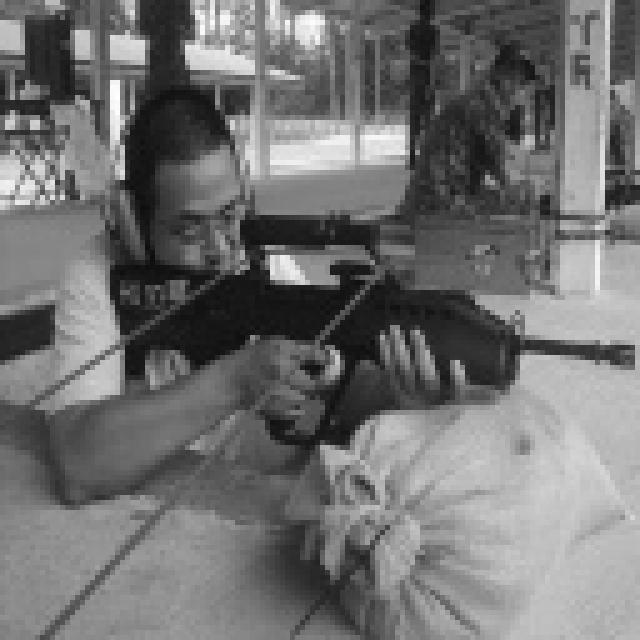Rifle: (84, 160, 640, 480)
